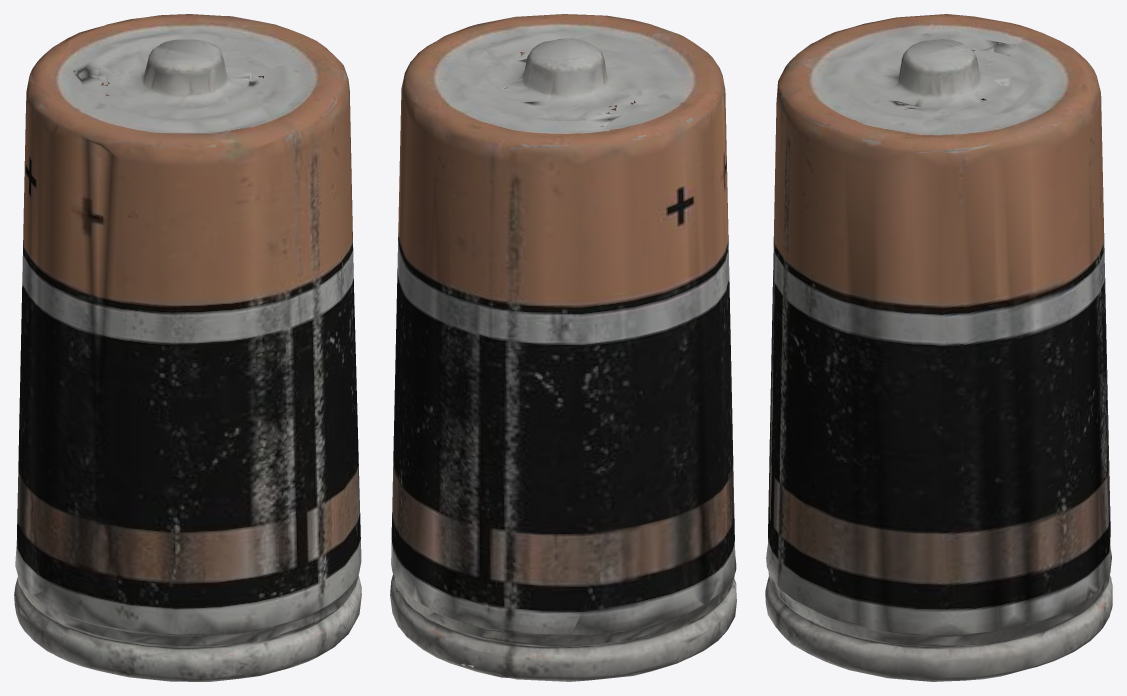
File: battery.glb
3 views of the same model, side by side, from view 1: azimuth 30°, elevation 25°; view 2: azimuth 150°, elevation 25°; view 3: azimuth 270°, elevation 25° (orthographic).
Bounding box in the file's own units: 0.565 × 0.9998 × 0.5638.
Materials: 1 (1 with a texture image).
